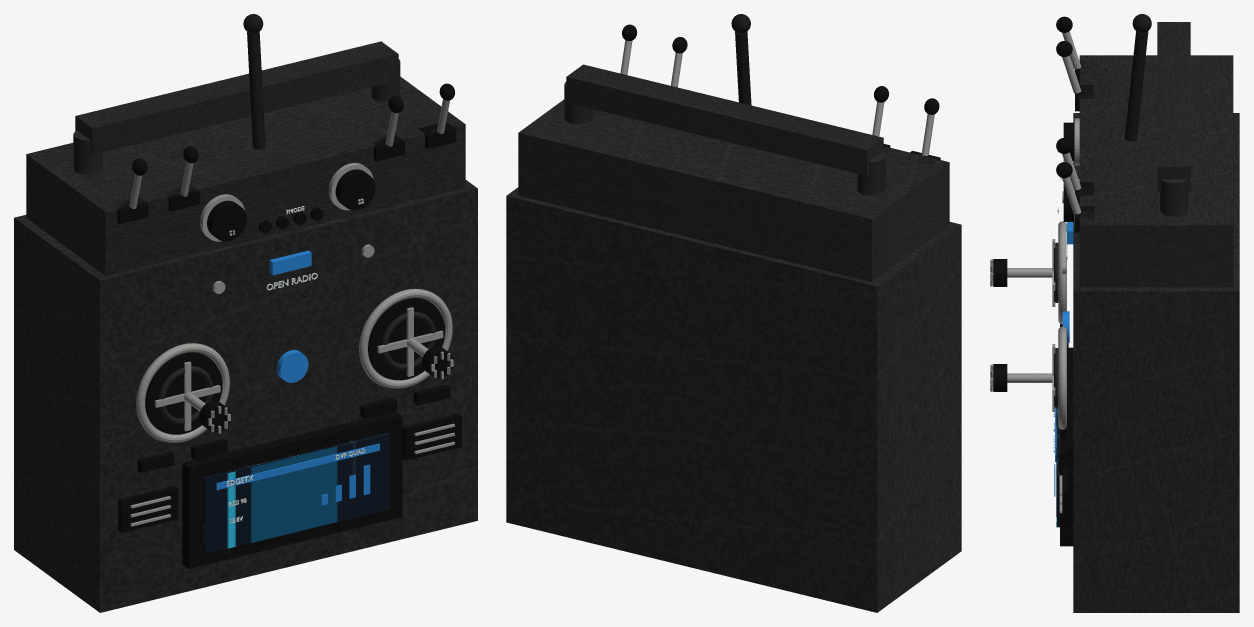
File: rc_transmitter.fbx
3 renders of one model, left to right at view 1: azimuth 30°, elevation 25°; view 2: azimuth 150°, elevation 25°; view 3: azimuth 270°, elevation 25°, orthographic. The views are drawn at different scales.
Parts seen in each view (by area): view 1: RC_Transmitter.001; view 2: RC_Transmitter.001; view 3: RC_Transmitter.001.
Boxes of the visible parts, x1,y1,x2,y2 form: RC_Transmitter.001: (14,14,477,612); RC_Transmitter.001: (506,14,961,612); RC_Transmitter.001: (990,14,1239,612).
Bounding box in the file's own units: 12.23 × 7.23 × 16.27.
